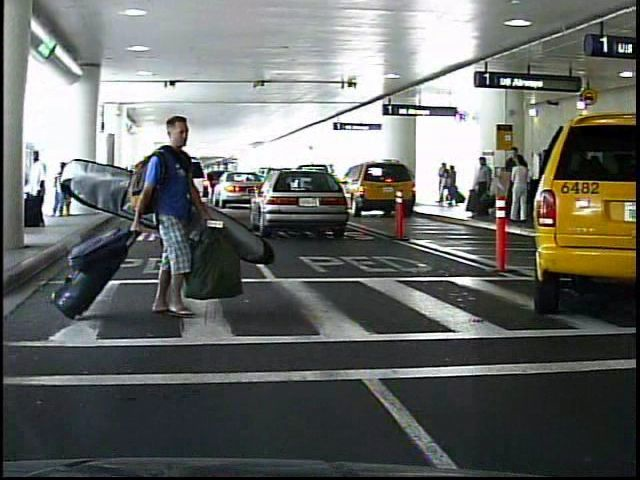person: (134, 108, 214, 340), (23, 151, 48, 232), (502, 143, 521, 217), (472, 157, 494, 220), (509, 155, 528, 224), (435, 162, 446, 208), (446, 163, 457, 207)
